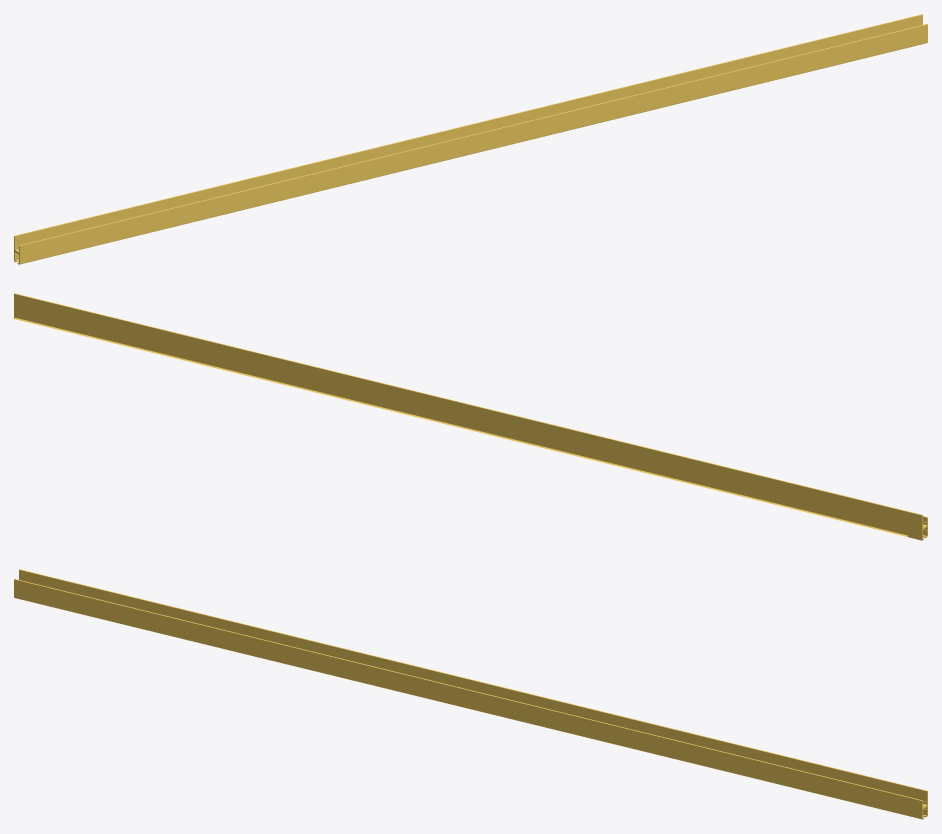
Rendered from original-24.obj.
3 renders of one model, top to bottom at view 1: azimuth 30°, elevation 25°; view 2: azimuth 150°, elevation 25°; view 3: azimuth 330°, elevation 25°, orthographic.
Visible parts, largest first — view 1: brr1/brr/mesh12/mesh12-geometry#mesh12-geometry; view 2: brr1/brr/mesh12/mesh12-geometry#mesh12-geometry; view 3: brr1/brr/mesh12/mesh12-geometry#mesh12-geometry.
Boxes of the visible parts, x1,y1,x2,y2 form: brr1/brr/mesh12/mesh12-geometry#mesh12-geometry: (14,14,927,264); brr1/brr/mesh12/mesh12-geometry#mesh12-geometry: (14,293,927,540); brr1/brr/mesh12/mesh12-geometry#mesh12-geometry: (14,569,927,819).
Size of the model in its own units: 1.03 by 0.0273 by 0.0112.
